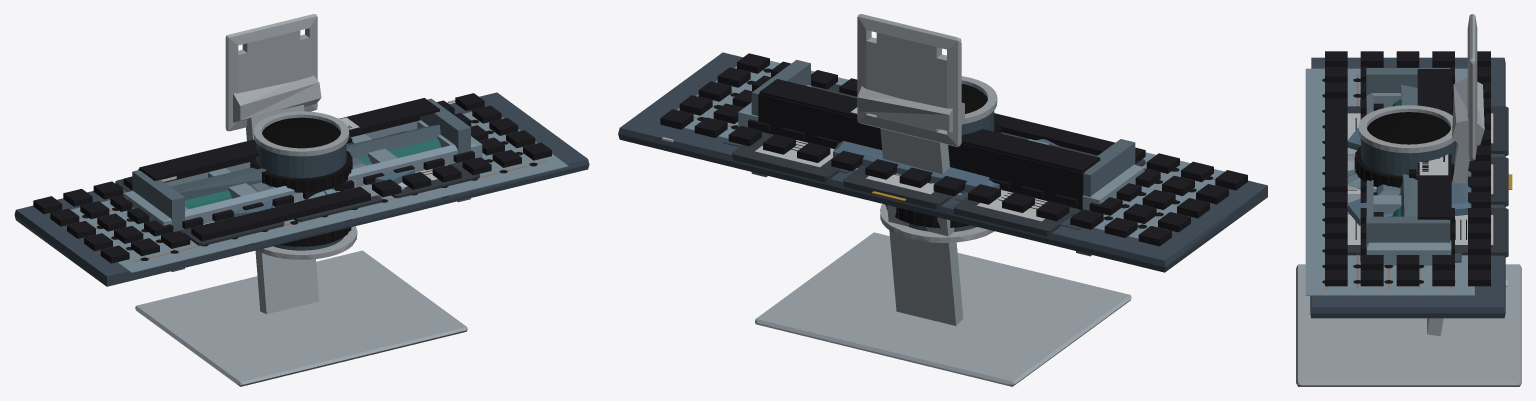
File: facultad.glb
3 views of the same model, side by side, from view 1: azimuth 30°, elevation 25°; view 2: azimuth 150°, elevation 25°; view 3: azimuth 270°, elevation 25° (orthographic). The views are drawn at different scales.
Visible parts, largest first — view 1: soporte_monitor, teclado, unidad_fusora, lente_proyector, membrana_teclado, carcasa_zapatilla, bateria@celdas_pegadas, cilindro_fotoconductor, carcasa_mando; view 2: soporte_monitor, teclado, unidad_fusora, bateria@celdas_pegadas, lente_proyector, membrana_teclado, carcasa_mando, carcasa_zapatilla; view 3: teclado, soporte_monitor, membrana_teclado, unidad_fusora, lente_proyector, bateria@celdas_pegadas, carcasa_zapatilla, carcasa_mando, adaptador_notebook, carcasa_mouse.
Part boxes in pixels (bbox=[...]): soporte_monitor: bbox=[135, 14, 467, 386]; teclado: bbox=[14, 92, 589, 286]; unidad_fusora: bbox=[132, 98, 470, 271]; lente_proyector: bbox=[250, 111, 357, 259]; membrana_teclado: bbox=[70, 112, 568, 272]; carcasa_zapatilla: bbox=[123, 120, 482, 225]; bateria@celdas_pegadas: bbox=[115, 161, 479, 245]; cilindro_fotoconductor: bbox=[141, 139, 441, 223]; carcasa_mando: bbox=[233, 144, 414, 217]; soporte_monitor: bbox=[755, 14, 1131, 386]; teclado: bbox=[618, 52, 1267, 272]; unidad_fusora: bbox=[751, 59, 1135, 256]; bateria@celdas_pegadas: bbox=[732, 84, 1145, 236]; lente_proyector: bbox=[880, 76, 1001, 242]; membrana_teclado: bbox=[677, 60, 1224, 238]; carcasa_mando: bbox=[833, 139, 1058, 193]; carcasa_zapatilla: bbox=[738, 85, 1144, 212]; teclado: bbox=[1310, 51, 1507, 318]; soporte_monitor: bbox=[1296, 14, 1521, 386]; membrana_teclado: bbox=[1305, 68, 1512, 295]; unidad_fusora: bbox=[1366, 68, 1451, 247]; lente_proyector: bbox=[1354, 105, 1456, 187]; bateria@celdas_pegadas: bbox=[1347, 106, 1508, 257]; carcasa_zapatilla: bbox=[1366, 93, 1451, 265]; carcasa_mando: bbox=[1347, 127, 1471, 225]; adaptador_notebook: bbox=[1376, 184, 1400, 195]; carcasa_mouse: bbox=[1347, 169, 1360, 189].
Bounding box in the file's own units: 42 × 22.85 × 16.
